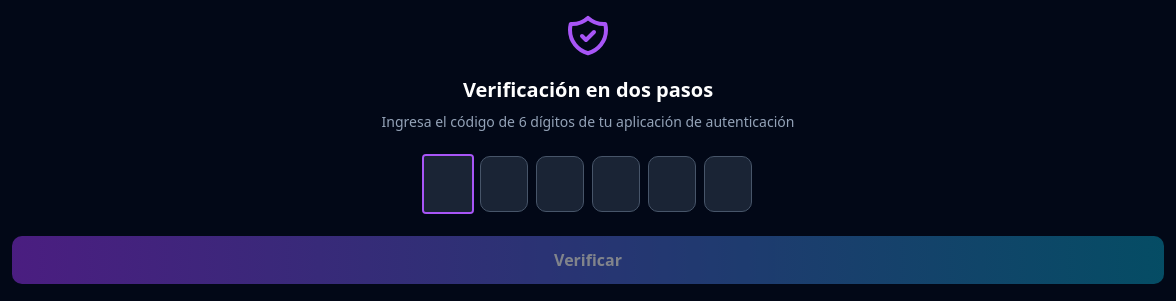
it: TwoFactorVerify › Input Behavior › should only accept single digit per input
Type "123" into the field named "Dígito 1 de 6" at (448, 184), box [424, 156, 472, 212]
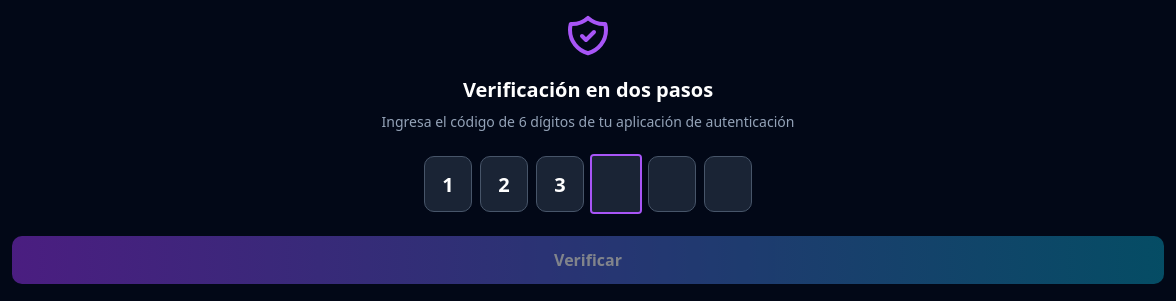
Check: the field named "Dígito 1 de 6" holds "1", box [424, 156, 472, 212]
